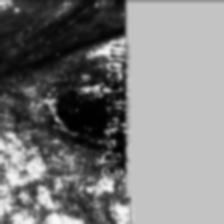Potentially Malignant Skin Tumors: (48, 78, 106, 142)
